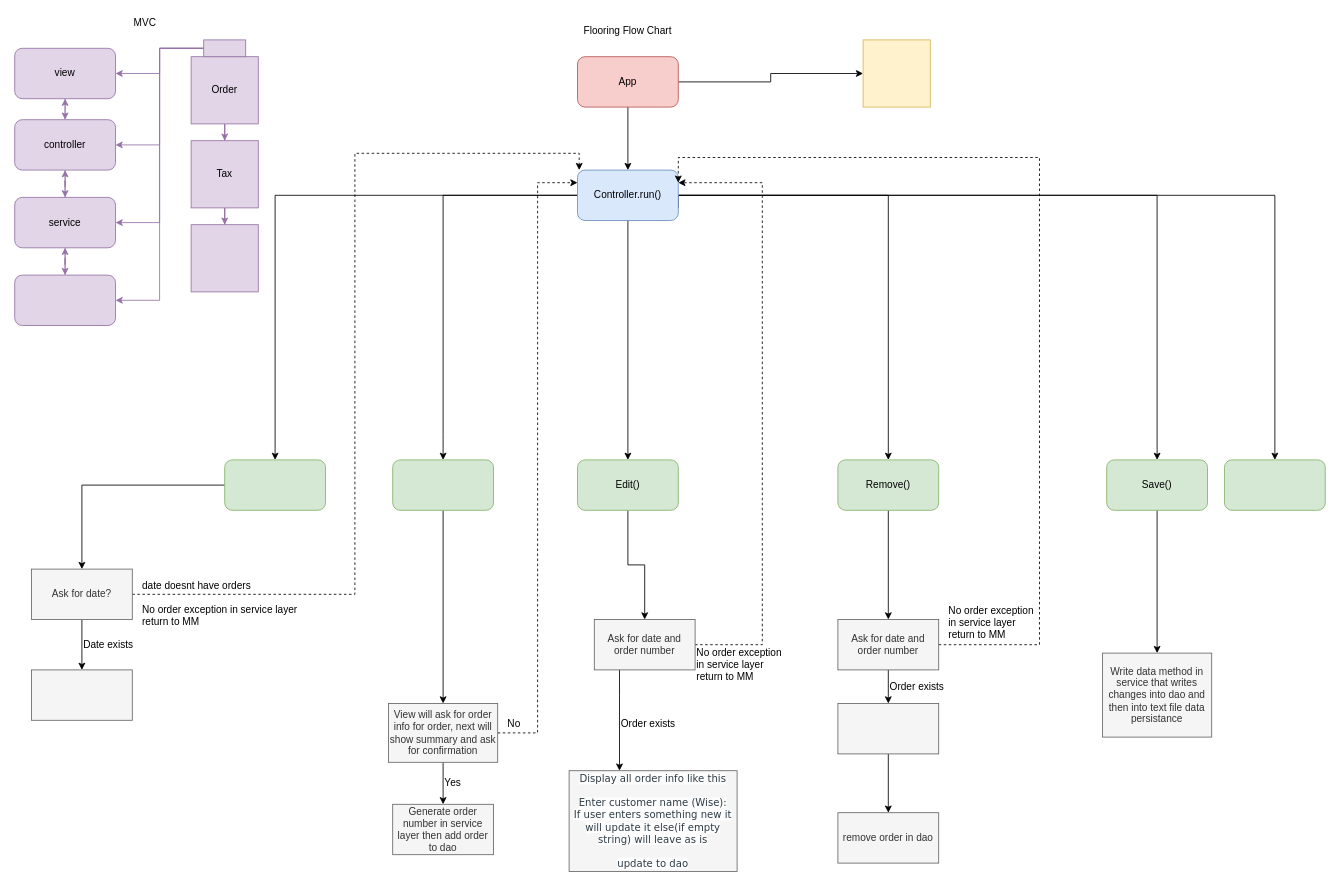
Some shapes in this 1341 by 886 pixel diagram are drawn without their labels. The centre of each missing label's shape, as x and y in pixels:
Add(): the point at 443,484
dao: the point at 65,300
display orders for that date: the point at 81,694
Display(): the point at 275,484
DTOS: the point at 224,48
Exit Program: the point at 1274,484
Product: the point at 224,258
Show user info and prompt for confirmation of deletion: the point at 888,728
Spring DI: the point at 896,73
